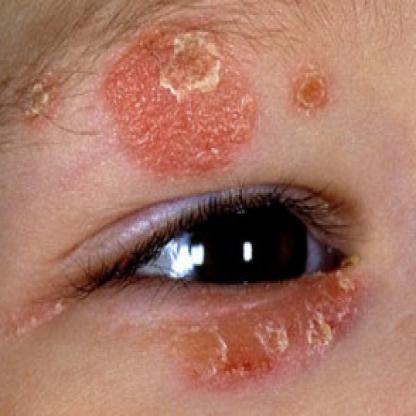Psoriasis: (90, 8, 266, 187), (167, 281, 390, 398)
